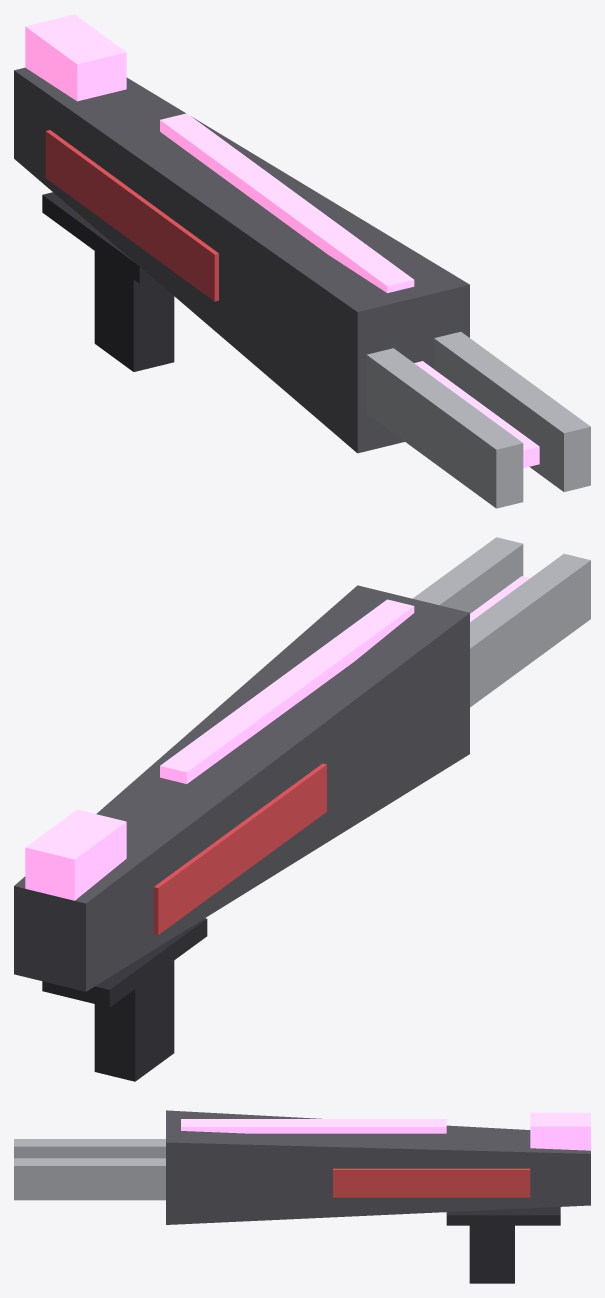
Rendered from weapon_F2_PlasmaRifle.glb.
3 renders of one model, top to bottom at view 1: azimuth 30°, elevation 25°; view 2: azimuth 150°, elevation 25°; view 3: azimuth 270°, elevation 25°, orthographic. The views are drawn at different scales.
Parts seen in each view (by area): view 1: Body, Mag; view 2: Body, Mag; view 3: Body, Mag.
Boxes of the visible parts, left/top/right/bottom form: Body: left=14, top=67, right=590, bottom=508; Mag: left=25, top=14, right=126, bottom=101; Body: left=14, top=537, right=590, bottom=1081; Mag: left=25, top=809, right=126, bottom=900; Body: left=14, top=1110, right=590, bottom=1283; Mag: left=530, top=1112, right=590, bottom=1150.
Size of the model in its own units: 0.1 by 0.23 by 0.76.
